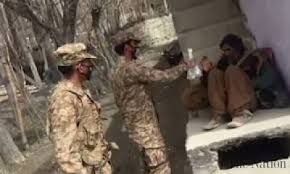uniform: (35, 69, 118, 174), (108, 55, 179, 168)
